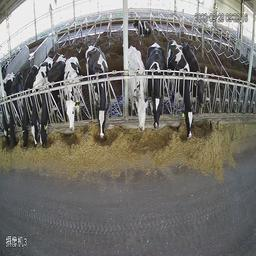cow: (166, 37, 191, 139), (86, 43, 113, 137), (41, 54, 64, 147), (126, 44, 147, 133), (146, 43, 167, 129), (65, 59, 83, 133), (191, 49, 210, 110), (19, 64, 30, 148), (9, 68, 19, 149), (30, 67, 40, 147), (1, 68, 9, 145), (131, 14, 155, 38)
